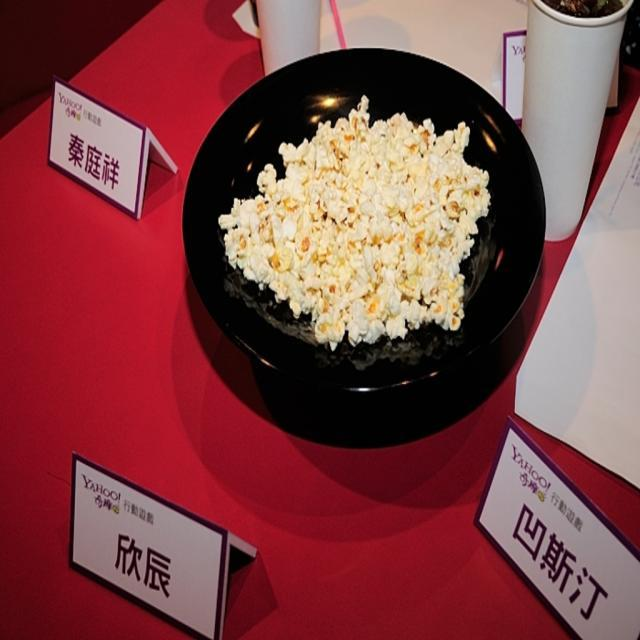Popcorn: (218, 94, 494, 356)
